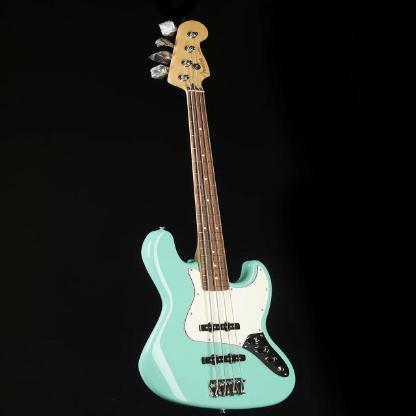bass: (136, 20, 298, 416)
